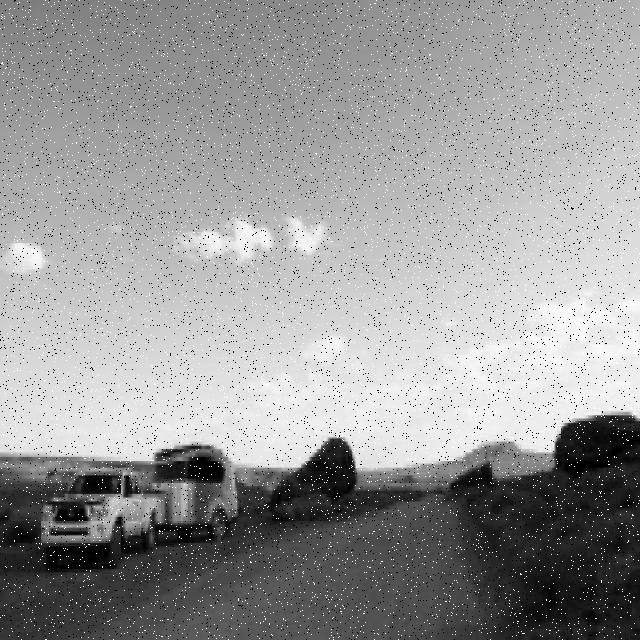Pickup: (41, 468, 164, 569)
Trailer: (155, 444, 238, 542)
